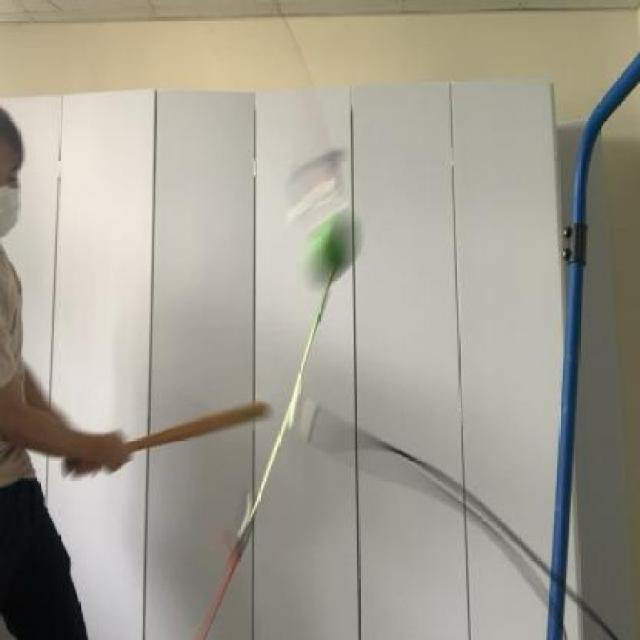baseball: (284, 200, 376, 297)
